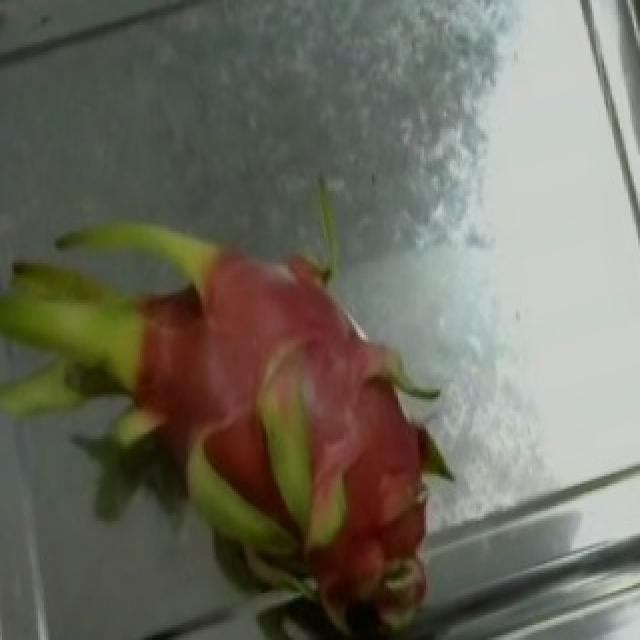fruit: (0, 166, 330, 623)
